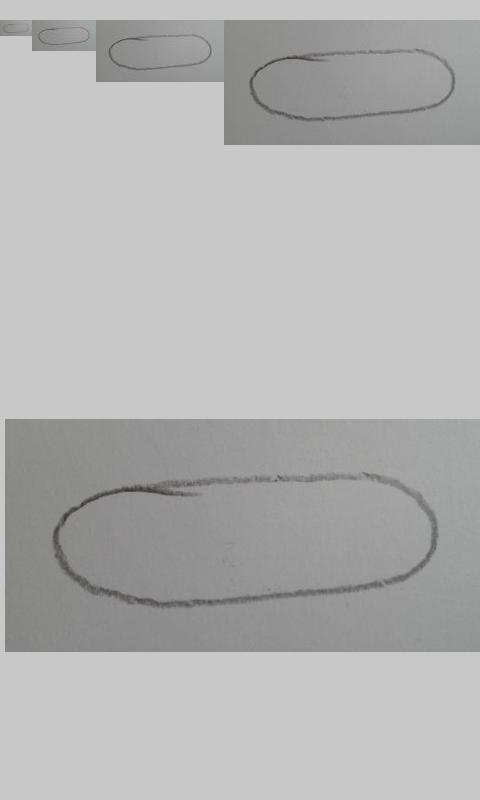chip: (51, 473, 442, 608), (249, 48, 456, 122), (108, 34, 213, 71), (37, 26, 91, 46), (3, 22, 30, 34)
